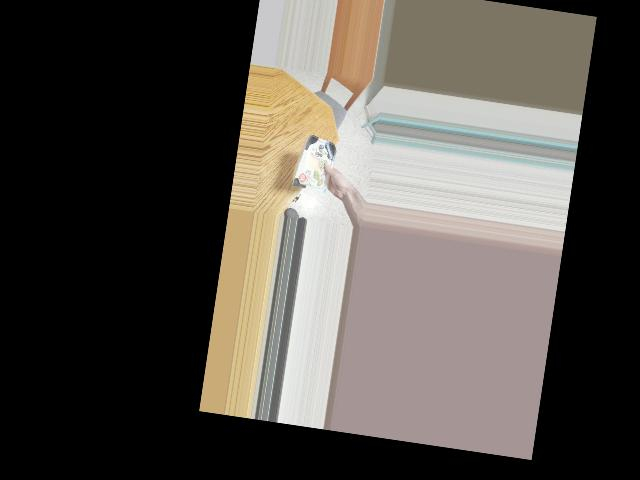cheese: (288, 133, 347, 197)
